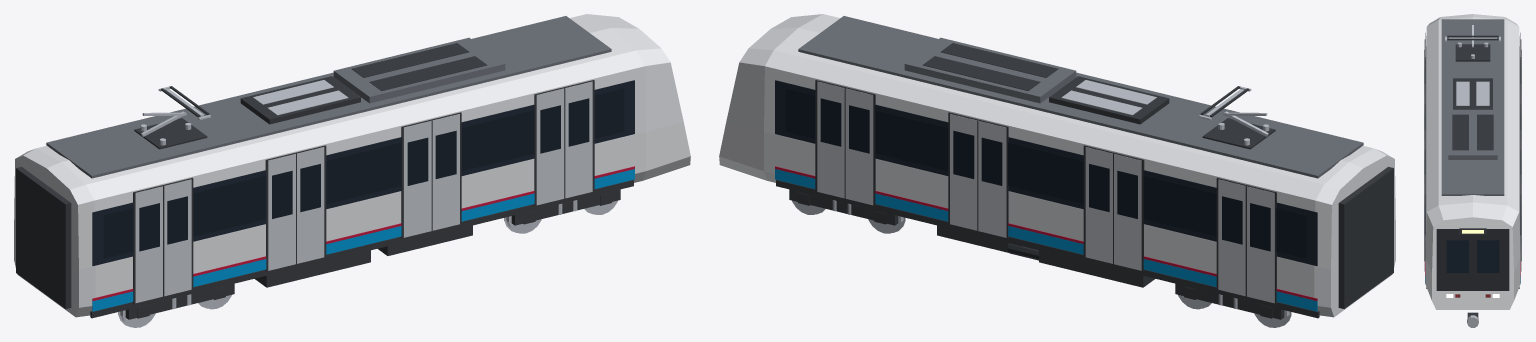
Rendered from rer_b_mi79__cab.glb.
The picture shows the model from 3 angles, left to right: view 1: azimuth 30°, elevation 25°; view 2: azimuth 150°, elevation 25°; view 3: azimuth 270°, elevation 25°; orthographic projection. The views are drawn at different scales.
Visible parts, largest first — view 1: rer_b_mi79_cab; view 2: rer_b_mi79_cab; view 3: rer_b_mi79_cab.
Part boxes in pixels (left/top/right/bottom): rer_b_mi79_cab: left=14, top=14, right=690, bottom=327; rer_b_mi79_cab: left=719, top=14, right=1395, bottom=327; rer_b_mi79_cab: left=1424, top=14, right=1521, bottom=327.
Bounding box in the file's own units: 15.37 × 4.56 × 2.95.
